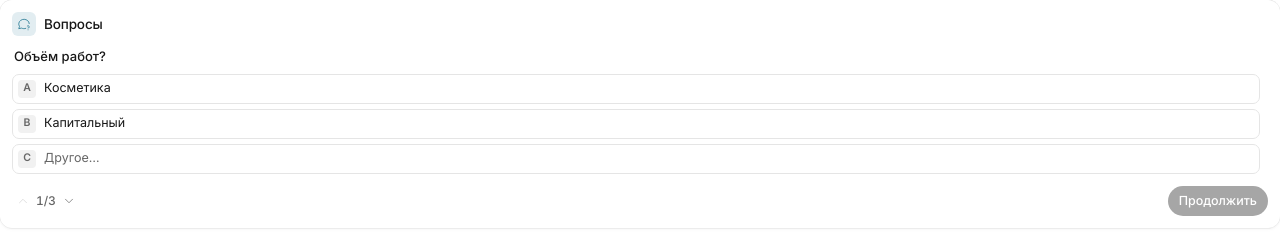
it: ApprovalCard — questions variant › Enter in «Другое…» ADVANCES when the question is not the last one
The image size is (1280, 246).
Check: the element named "Вопрос 1 из 3" is shown, box [14,192,78,210]
Type "Только переговорная и кухня" into the field named "Свой ответ: Объём работ?". click: (649, 159)
box: [44,150,1254,167]
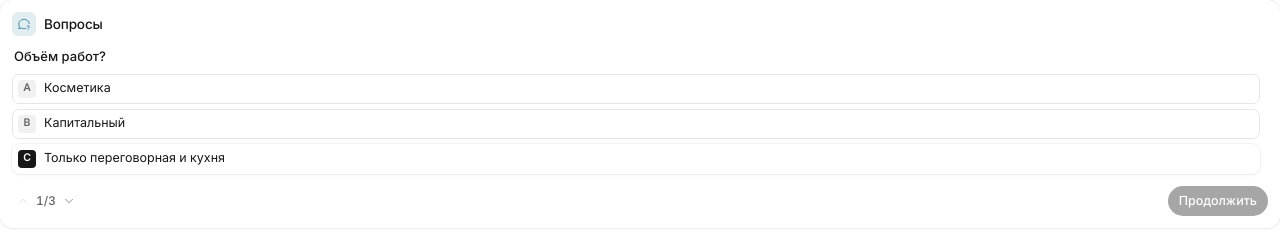
Press Enter in the field named "Свой ответ: Объём работ?", box [44,150,1254,167]
Wait 400 ms
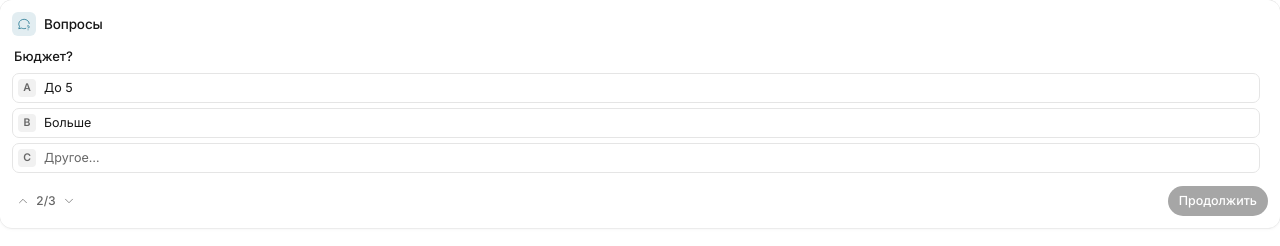
Check: the element named "Вопрос 2 из 3" is shown, box [14,192,78,210]
